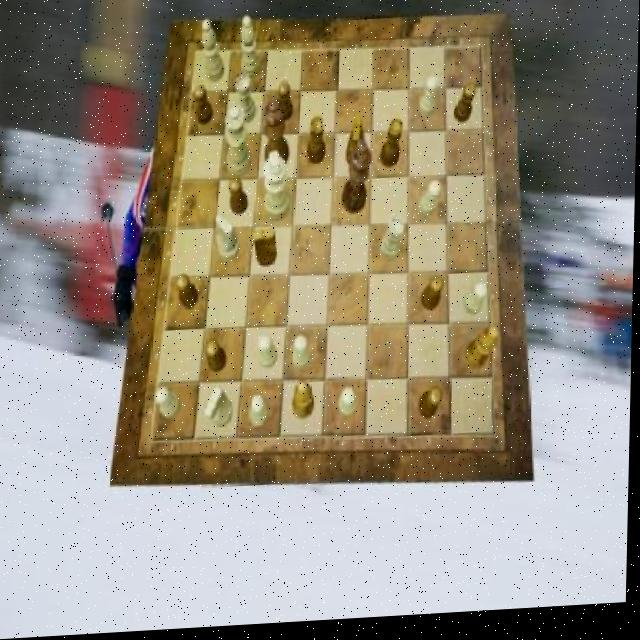bishop: (467, 332, 502, 376), (294, 384, 317, 422)
black-bishop: (344, 141, 372, 217)
black-king: (348, 118, 369, 173), (254, 232, 279, 270)
black-knight: (454, 89, 477, 130), (177, 275, 201, 311), (195, 87, 215, 128), (230, 180, 251, 219), (422, 281, 445, 316), (420, 393, 443, 426), (207, 343, 228, 376), (278, 85, 295, 125)
black-pawn: (264, 102, 292, 174)
black-queen: (381, 124, 405, 173), (308, 122, 328, 170)
black-rook: (201, 20, 226, 84), (241, 19, 262, 82)
white-bishop: (264, 154, 292, 226)
white-king: (215, 216, 242, 265), (206, 389, 234, 432)
white-knight: (419, 81, 440, 124), (159, 388, 184, 422), (419, 185, 442, 221), (467, 288, 490, 321), (259, 337, 280, 372), (293, 337, 313, 373), (251, 398, 270, 431), (340, 390, 358, 422)
white-pawn: (226, 108, 255, 182)
white-queen: (381, 221, 406, 266), (236, 77, 258, 127)
